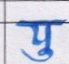u_matra: (21, 46, 56, 62)
